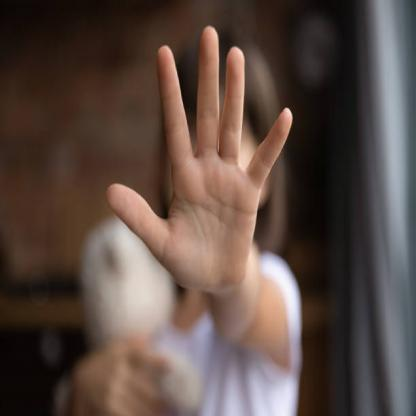stop: (102, 22, 292, 300)
